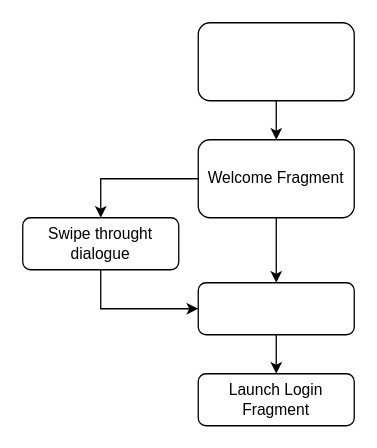
This 377x448 diagram has some shape labels left out. The box of each missing label's shape, as (x1, y1, x2, y2) in pixels:
App Launch: (197, 21, 354, 101)
Clicks "Get Started": (197, 281, 354, 335)
